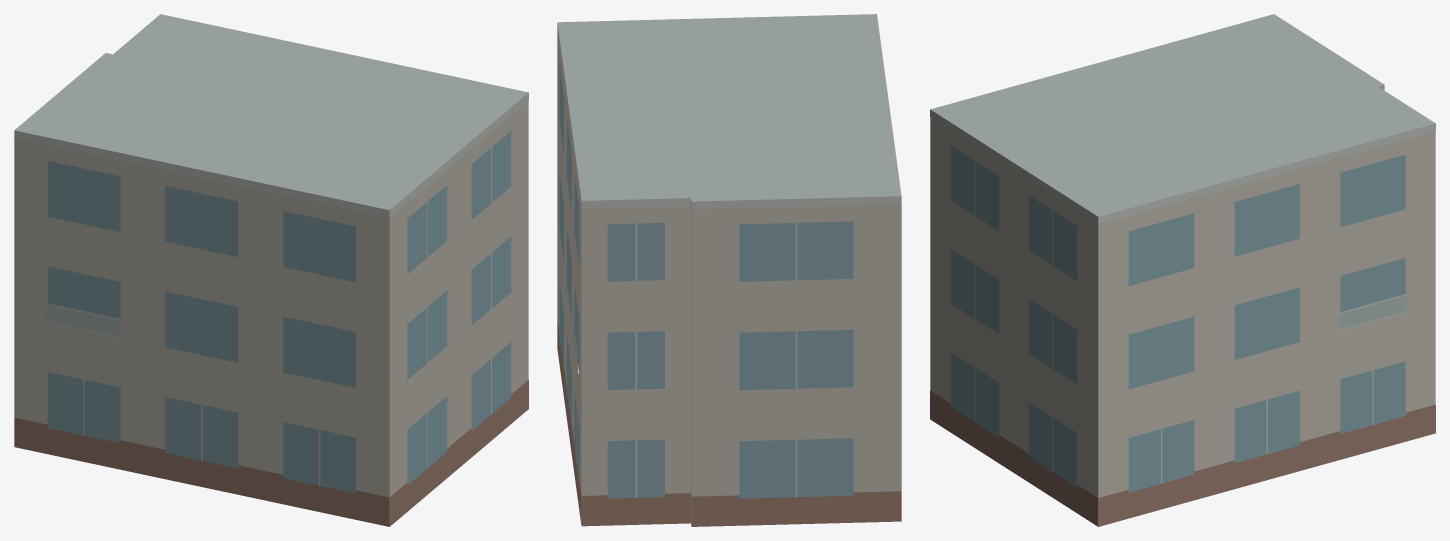
Rendered from survey-upis-32988206.glb.
3 views of the same model, side by side, from view 1: azimuth 30°, elevation 25°; view 2: azimuth 150°, elevation 25°; view 3: azimuth 270°, elevation 25° (orthographic). The views are drawn at different scales.
Parts seen in each view (by area): view 1: survey-upis-32988206.tmp; view 2: survey-upis-32988206.tmp; view 3: survey-upis-32988206.tmp.
Boxes of the visible parts, x1,y1,x2,y2 form: survey-upis-32988206.tmp: [14, 14, 528, 526]; survey-upis-32988206.tmp: [557, 14, 901, 526]; survey-upis-32988206.tmp: [930, 14, 1435, 526].
Size of the model in its own units: 13.91 by 9.9 by 14.64.
